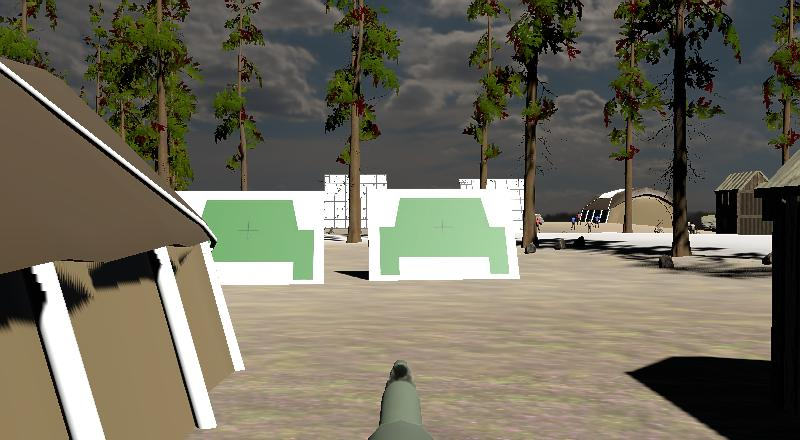House: (714, 168, 769, 233)
Human: (570, 216, 578, 231), (586, 219, 592, 234), (590, 218, 596, 233)
